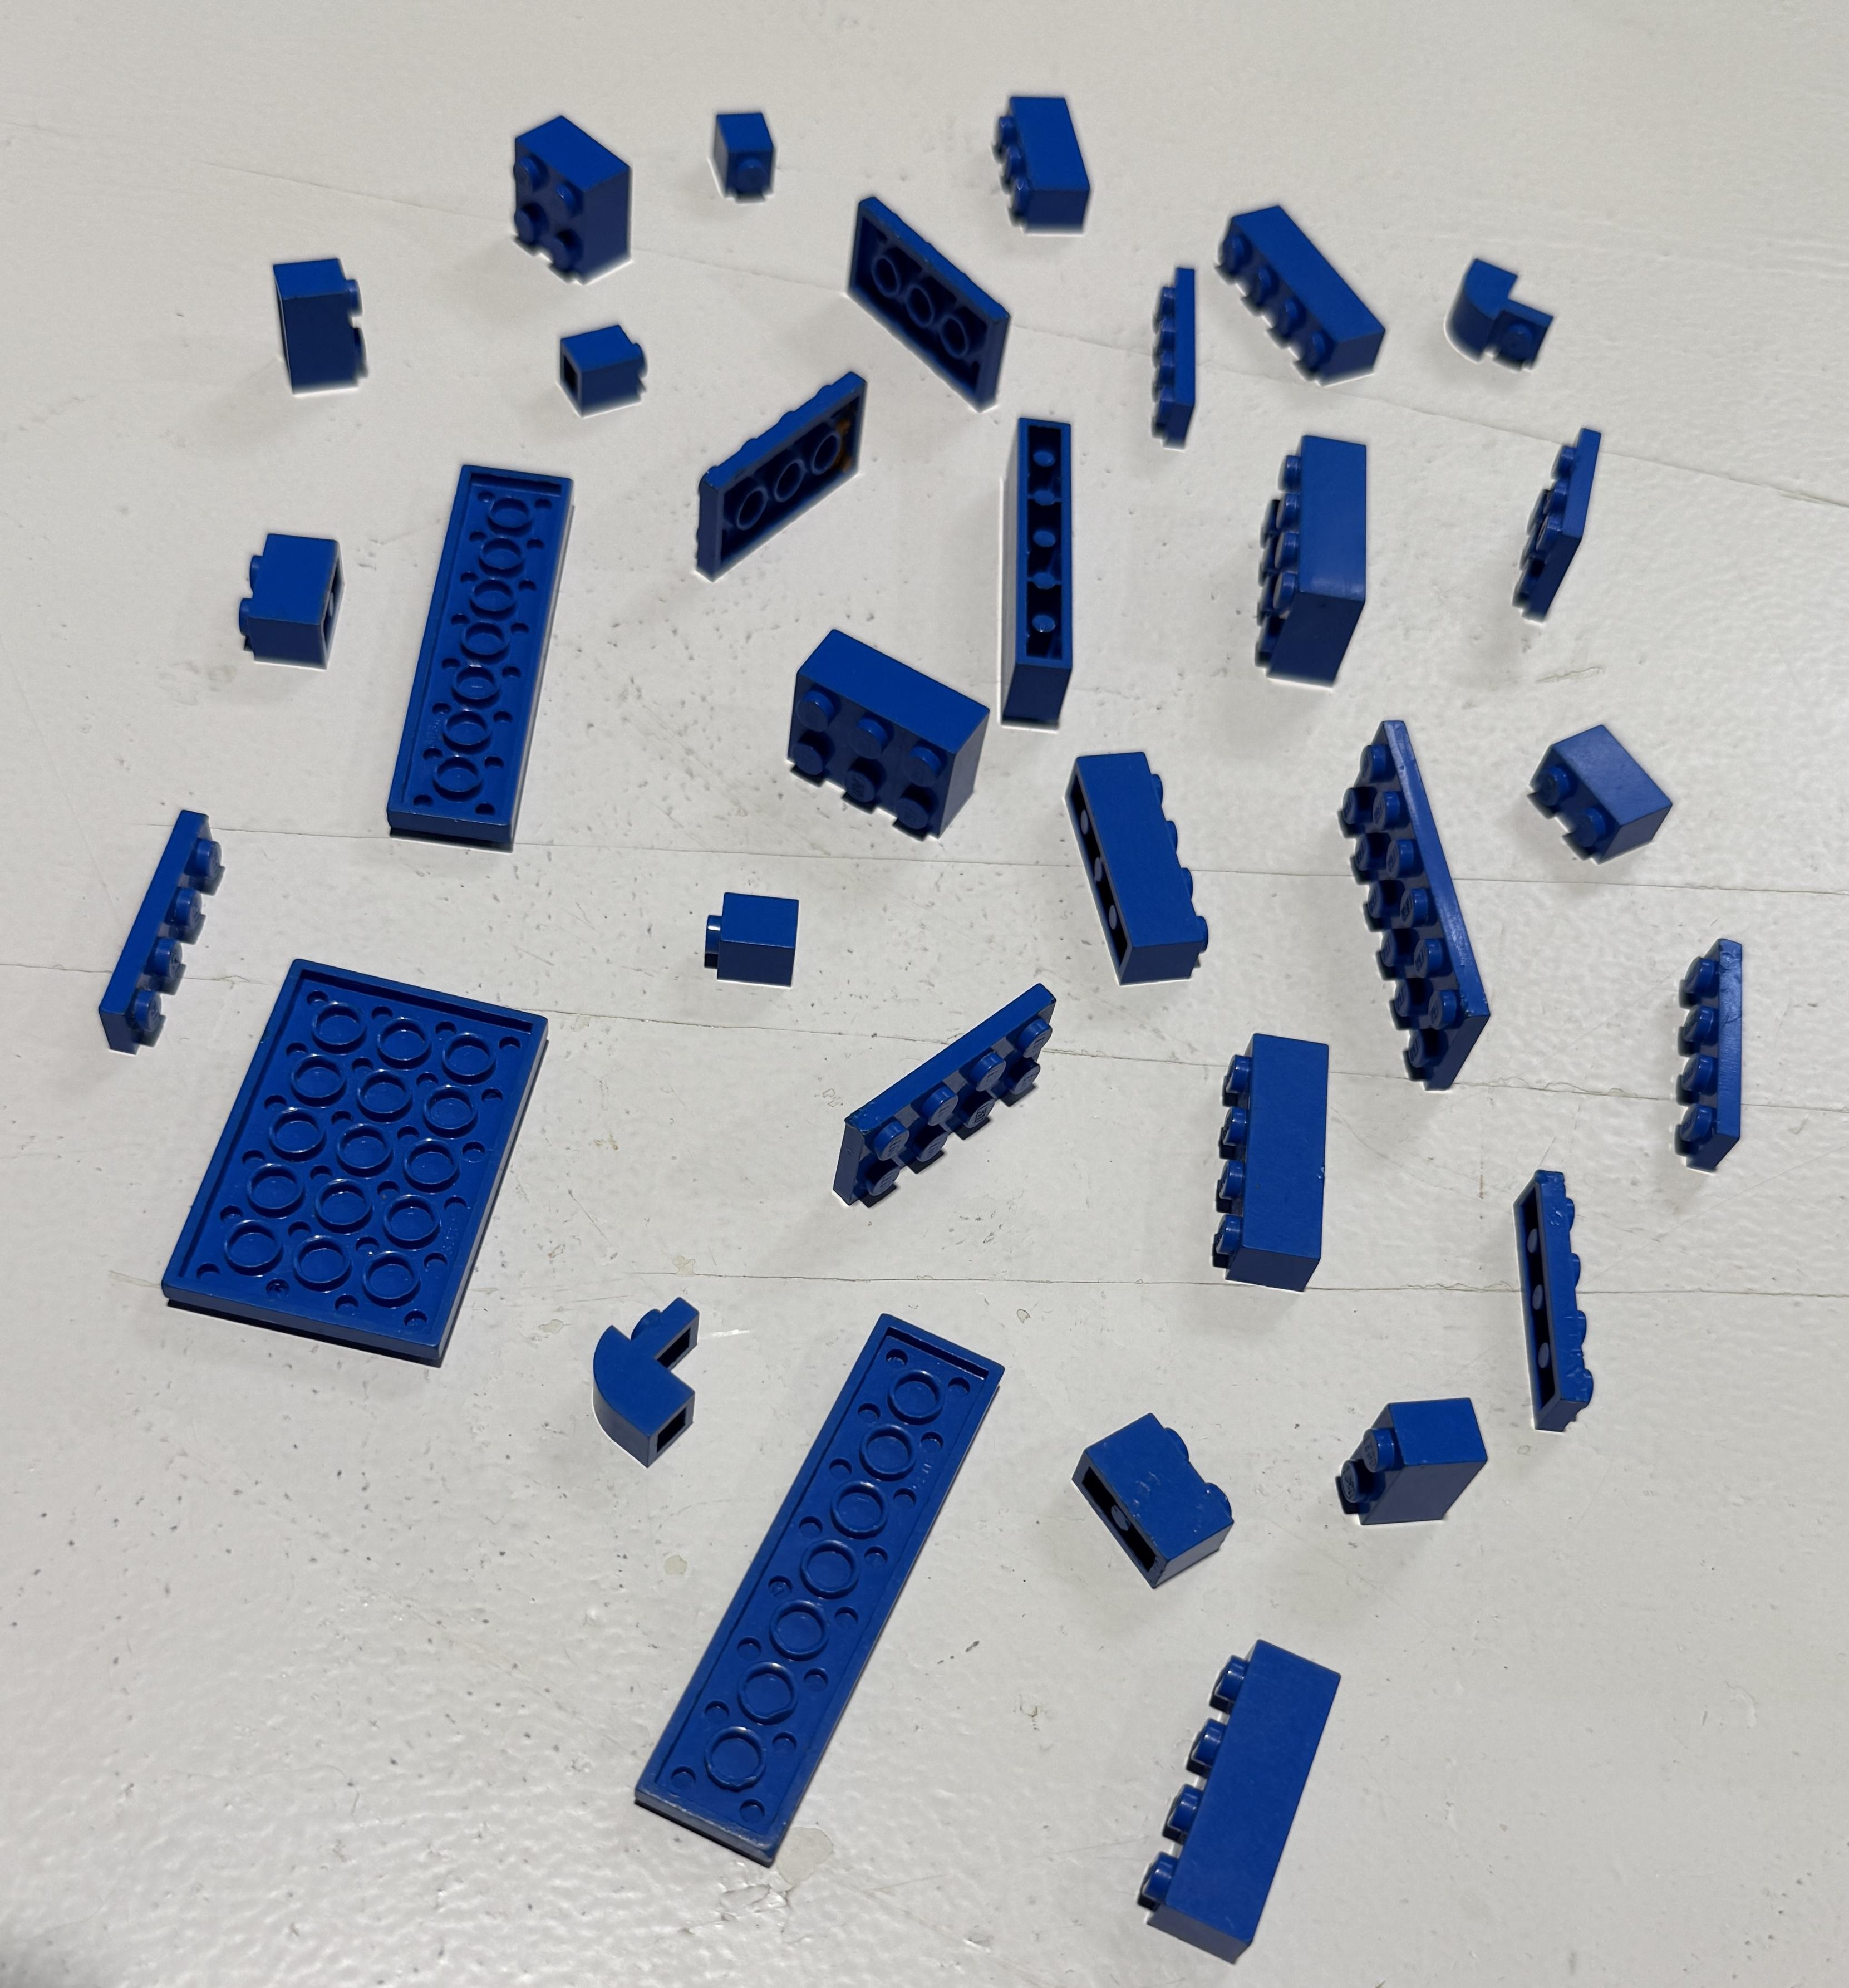brick_1x1: (676, 867, 829, 1015), (699, 85, 799, 217), (547, 304, 657, 419)
brick_1x2: (1512, 697, 1707, 900), (1302, 1368, 1500, 1559), (1065, 1395, 1258, 1587), (191, 499, 363, 702), (249, 226, 393, 414)
brick_1x3: (982, 59, 1117, 255)
brick_1x4: (1091, 1618, 1362, 1976), (1180, 1015, 1376, 1333), (1037, 716, 1248, 1010), (1176, 176, 1392, 405)
brick_2x2: (485, 87, 650, 294)
brick_2x3: (765, 622, 999, 853)
brick_2x4: (1239, 419, 1394, 699)
